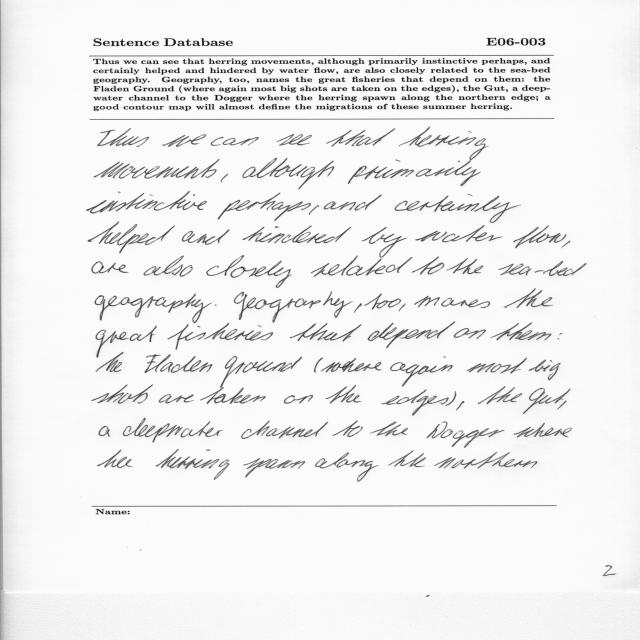word: (86, 192, 207, 224), (234, 291, 353, 322), (395, 194, 521, 223), (348, 159, 481, 186), (123, 419, 270, 443), (95, 294, 212, 323), (390, 356, 496, 387), (399, 127, 489, 160), (243, 158, 335, 189), (168, 323, 273, 350), (206, 256, 292, 288), (145, 354, 245, 381), (218, 193, 311, 221), (88, 224, 175, 253), (94, 159, 220, 179), (156, 449, 230, 480), (368, 322, 456, 348), (311, 256, 412, 277), (427, 421, 505, 448), (243, 226, 352, 244), (96, 326, 157, 358), (382, 390, 456, 416), (315, 452, 379, 482), (435, 452, 538, 469), (200, 381, 266, 404), (415, 225, 503, 242), (362, 227, 407, 258), (290, 323, 362, 342), (498, 261, 587, 276), (326, 128, 395, 147), (523, 388, 571, 414), (513, 226, 567, 249), (92, 384, 153, 404), (244, 458, 306, 477), (491, 323, 552, 341), (266, 422, 328, 439), (143, 256, 193, 277), (98, 128, 149, 147), (243, 357, 303, 373), (504, 289, 553, 308), (324, 195, 382, 211), (414, 296, 490, 308), (322, 358, 382, 373), (490, 358, 550, 373), (514, 423, 572, 438), (478, 386, 522, 404), (182, 229, 230, 245), (325, 385, 362, 403), (388, 450, 426, 467), (98, 450, 133, 468), (412, 257, 445, 275), (447, 258, 484, 274), (364, 294, 401, 310), (162, 134, 206, 147), (96, 352, 123, 372), (370, 422, 408, 436), (332, 420, 363, 437), (92, 261, 128, 274), (211, 137, 259, 146), (276, 134, 312, 146), (453, 328, 486, 339), (159, 394, 194, 404), (284, 395, 313, 404), (548, 360, 561, 380), (314, 358, 323, 373), (99, 426, 110, 437), (309, 205, 319, 215), (557, 401, 567, 410), (354, 303, 362, 313), (456, 401, 464, 410), (221, 174, 228, 183), (562, 241, 571, 248), (399, 304, 406, 312), (558, 333, 563, 339), (215, 304, 217, 306)
